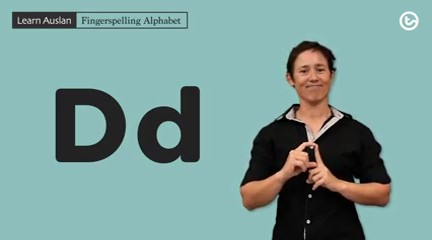D: (280, 139, 330, 194)
